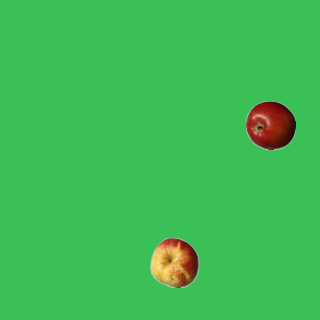Apple Braeburn: (245, 100, 295, 150)
Apple Red Yellow 1: (149, 237, 199, 287)
